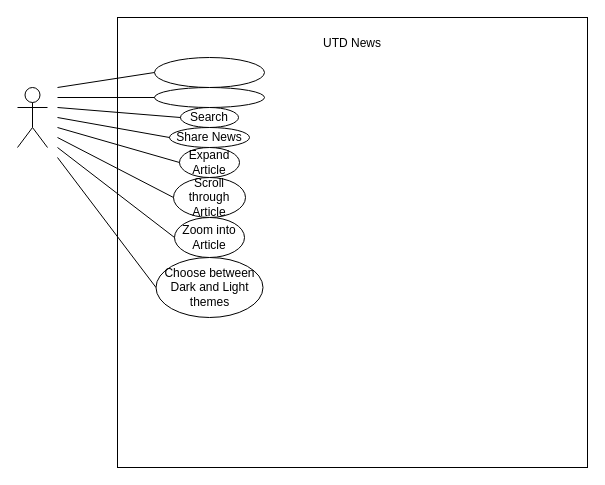
Image size: 605x485. Some labels were removed from this diagram. The shapes that lost their labels are listed below. From the top down, each one's box as (x1, y1, x2, y2) in pixels, then its label:
(154, 56, 264, 88): Add a bookmark
(16, 86, 48, 148): User
(154, 86, 264, 108): Delete a bookmark
